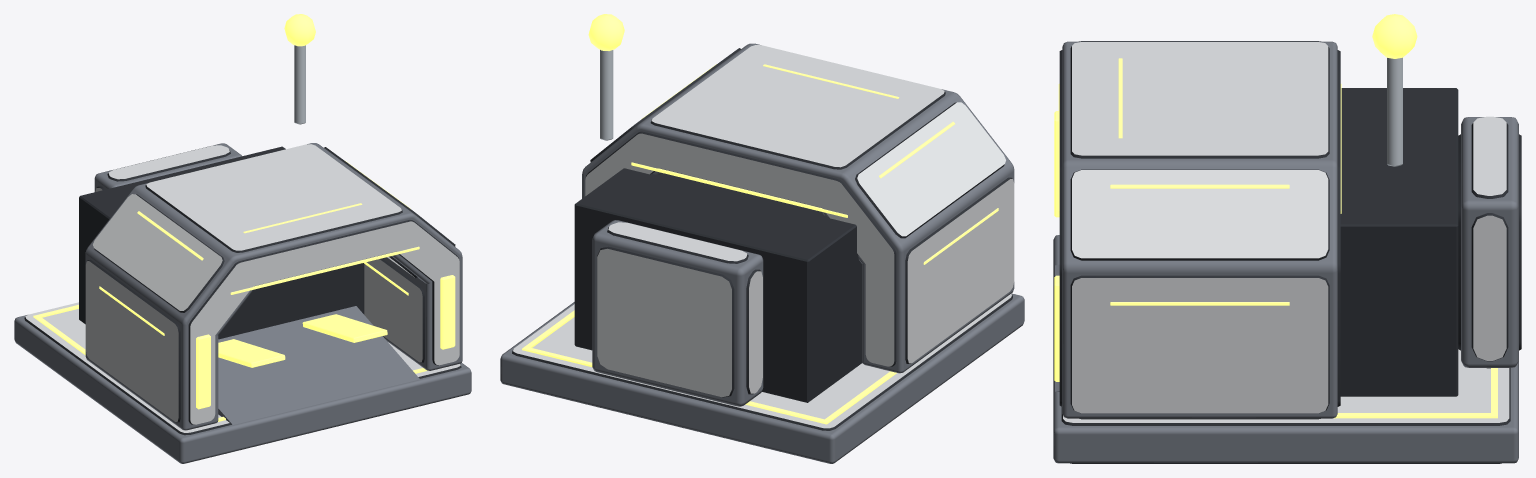
File: R4X_GroundDroneDeployer.fbx
3 renders of one model, left to right at view 1: azimuth 30°, elevation 25°; view 2: azimuth 150°, elevation 25°; view 3: azimuth 270°, elevation 25°, orthographic. The views are drawn at different scales.
Parts seen in each view (by area): view 1: R4X_GroundDroneDeployer_Body; view 2: R4X_GroundDroneDeployer_Body; view 3: R4X_GroundDroneDeployer_Body.
Part boxes in pixels (box(x1,y1,x2,y2)): R4X_GroundDroneDeployer_Body: box(14, 14, 471, 463); R4X_GroundDroneDeployer_Body: box(500, 14, 1024, 463); R4X_GroundDroneDeployer_Body: box(1053, 14, 1521, 463).
Bounding box in the file's own units: 0.514 × 0.51 × 0.517.
